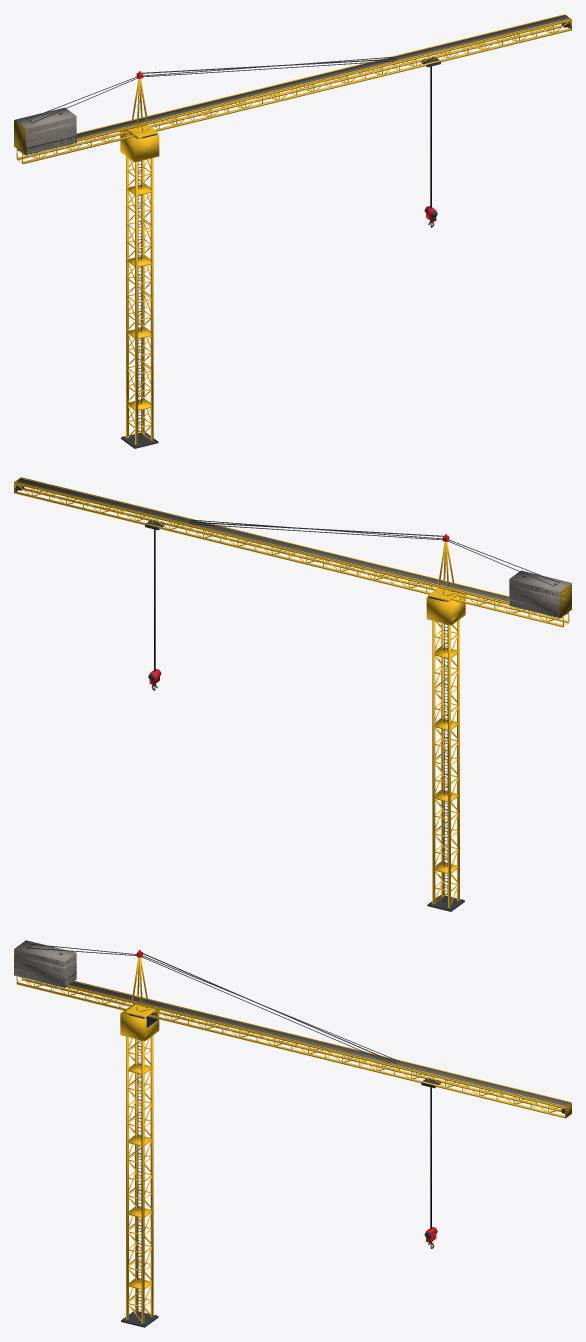
The model's file is p_crane.glb.
3 views of the same model, one above another, from view 1: azimuth 30°, elevation 25°; view 2: azimuth 150°, elevation 25°; view 3: azimuth 330°, elevation 25° (orthographic).
Visible parts, largest first — view 1: lod1_mesh, yellow, grate, steel, ballast; view 2: lod1_mesh, yellow, grate, steel, ballast; view 3: lod1_mesh, yellow, grate, steel, ballast.
Boxes of the visible parts, x1=… form: lod1_mesh: x1=15, y1=19, x2=571, y2=445; yellow: x1=14, y1=14, x2=571, y2=440; grate: x1=17, y1=15, x2=569, y2=152; steel: x1=26, y1=22, x2=569, y2=448; ballast: x1=26, y1=117, x2=75, y2=154; lod1_mesh: x1=14, y1=482, x2=570, y2=908; yellow: x1=14, y1=477, x2=571, y2=904; grate: x1=16, y1=478, x2=568, y2=615; steel: x1=16, y1=485, x2=559, y2=911; ballast: x1=510, y1=580, x2=559, y2=616; lod1_mesh: x1=14, y1=940, x2=565, y2=1323; yellow: x1=14, y1=946, x2=571, y2=1321; grate: x1=69, y1=982, x2=570, y2=1107; steel: x1=26, y1=944, x2=564, y2=1327; ballast: x1=15, y1=950, x2=76, y2=986.
Size of the model in its own units: 64.13 by 41.2 by 2.9.
Materials: 9 (3 with a texture image).
